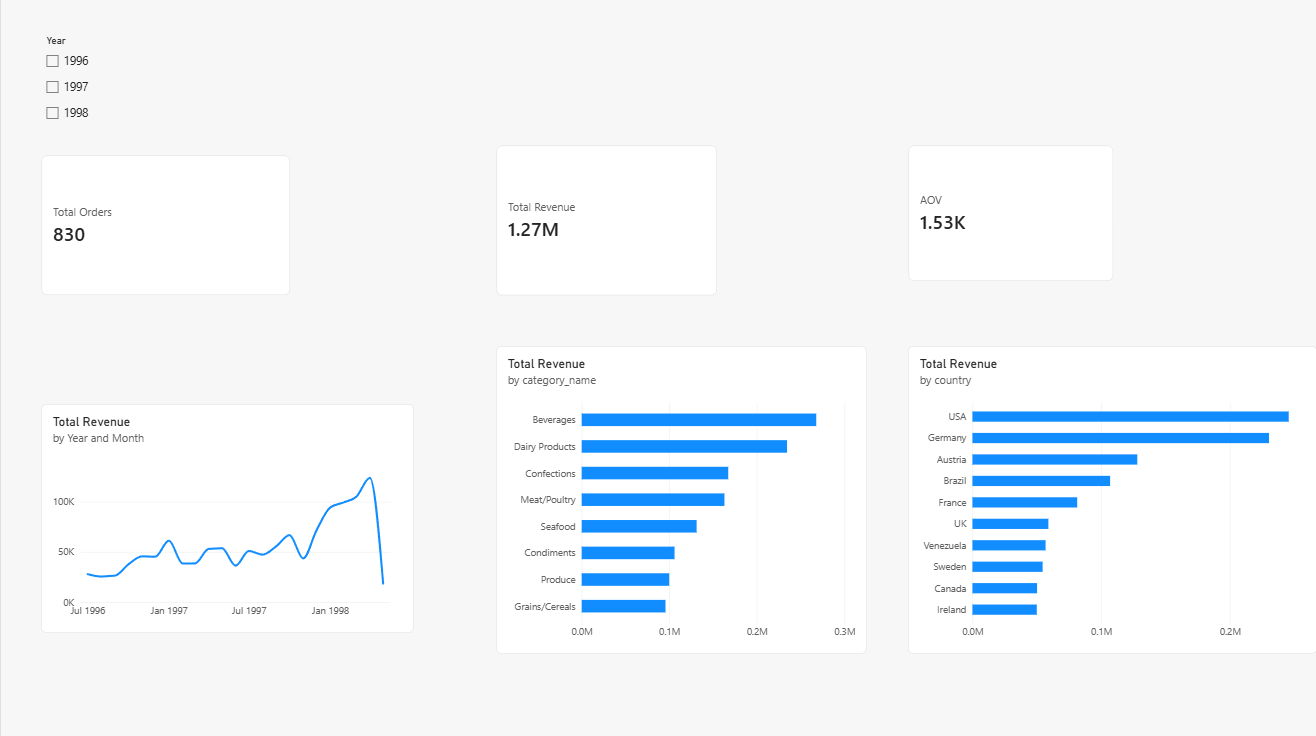

This screenshot's page, from the dashboard's own definition file:
{"tool":"powerbi","page":{"name":"Executive Summary","canvas":[1920,1080],"ordinal":0},"visuals":[{"type":"cardVisual","fields":{"Data":["public orders.Total Orders"]},"box":[58.4,227.6,364.7,205.7],"z":0},{"type":"cardVisual","fields":{"Data":["public order_details.Total Revenue"]},"box":[722.2,213,323.9,220.3],"z":1000},{"type":"cardVisual","fields":{"Data":["_Measures.AOV"]},"box":[1323.3,213,300.5,199.9],"z":2000},{"type":"lineChart","fields":{"Category":["public orders.order_date.Variation.Date Hierarchy.Year","public orders.order_date.Variation.Date Hierarchy.Month"],"Y":["_Measures.Total Revenue"]},"box":[58.4,590.9,544.2,334.1],"z":3000},{"type":"clusteredBarChart","fields":{"Category":["public categories.category_name"],"Y":["_Measures.Total Revenue"]},"box":[722.2,506.3,541.3,449.4],"z":4000},{"type":"clusteredBarChart","fields":{"Category":["public customers.country"],"Y":["_Measures.Total Revenue"]},"box":[1323.3,506.3,596.7,449.4],"z":5000},{"type":"slicer","fields":{"Values":["public orders.order_date.Variation.Date Hierarchy.Year"]},"box":[58.4,52.5,427.5,145.9],"z":6000}]}

Visuals, with their boxes in screenshot pixels (x1, y1, x2, y2), scaled from the page's 1920x1080 canvas onto the 1316x736 screenshot:
cardVisual - public orders.Total Orders: bbox(40, 155, 290, 295)
cardVisual - public order_details.Total Revenue: bbox(495, 145, 717, 295)
cardVisual - _Measures.AOV: bbox(907, 145, 1113, 281)
lineChart - public orders.order_date.Variation.Date Hierarchy.Year x public orders.order_date.Variation.Date Hierarchy.Month: bbox(40, 403, 413, 630)
clusteredBarChart - public categories.category_name x _Measures.Total Revenue: bbox(495, 345, 866, 651)
clusteredBarChart - public customers.country x _Measures.Total Revenue: bbox(907, 345, 1315, 651)
slicer - public orders.order_date.Variation.Date Hierarchy.Year: bbox(40, 36, 333, 135)
